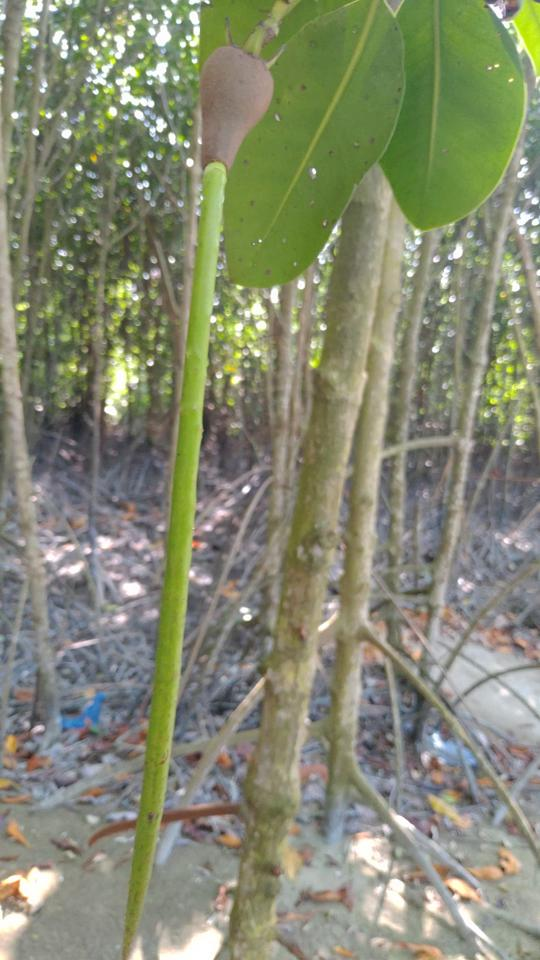setengah matang: (113, 16, 298, 956)
